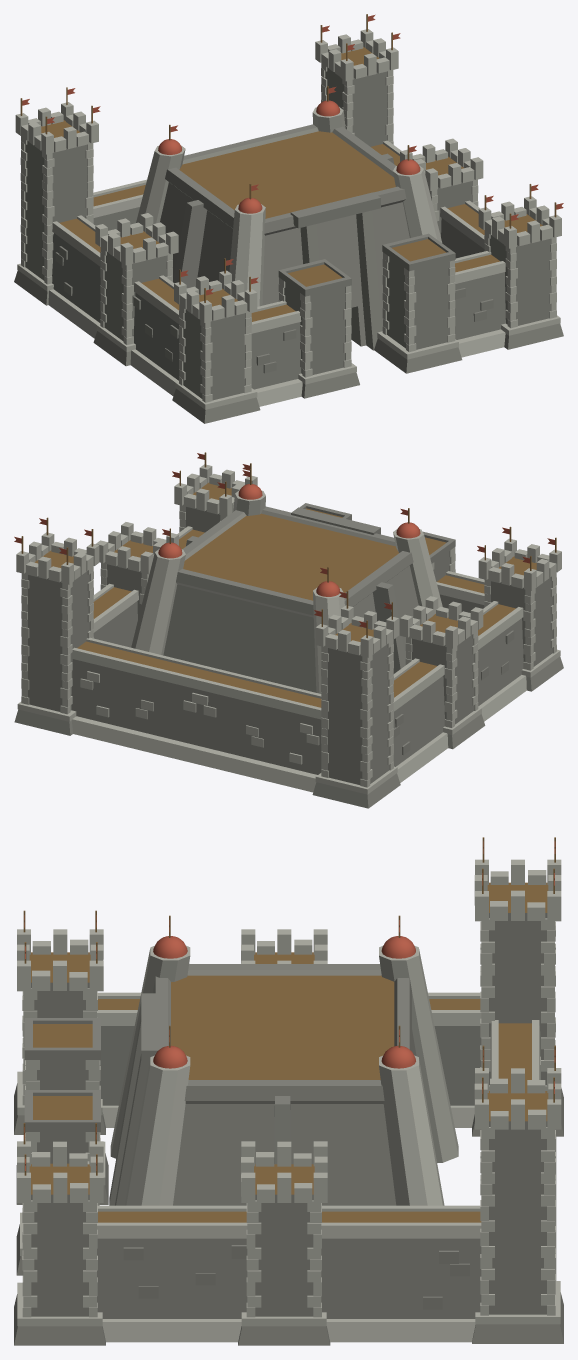
Rendered from Wonder_SecondAge_Level2.glb.
3 views of the same model, one above another, from view 1: azimuth 30°, elevation 25°; view 2: azimuth 150°, elevation 25°; view 3: azimuth 270°, elevation 25° (orthographic). The views are drawn at different scales.
Visible parts, largest first — view 1: Wonder_SecondAge_Level2; view 2: Wonder_SecondAge_Level2; view 3: Wonder_SecondAge_Level2.
Part boxes in pixels (left/top/right/bottom): Wonder_SecondAge_Level2: left=14, top=14, right=563, bottom=423; Wonder_SecondAge_Level2: left=14, top=452, right=563, bottom=808; Wonder_SecondAge_Level2: left=14, top=837, right=563, bottom=1345.
Bounding box in the file's own units: 2.13 × 1.08 × 1.96.
